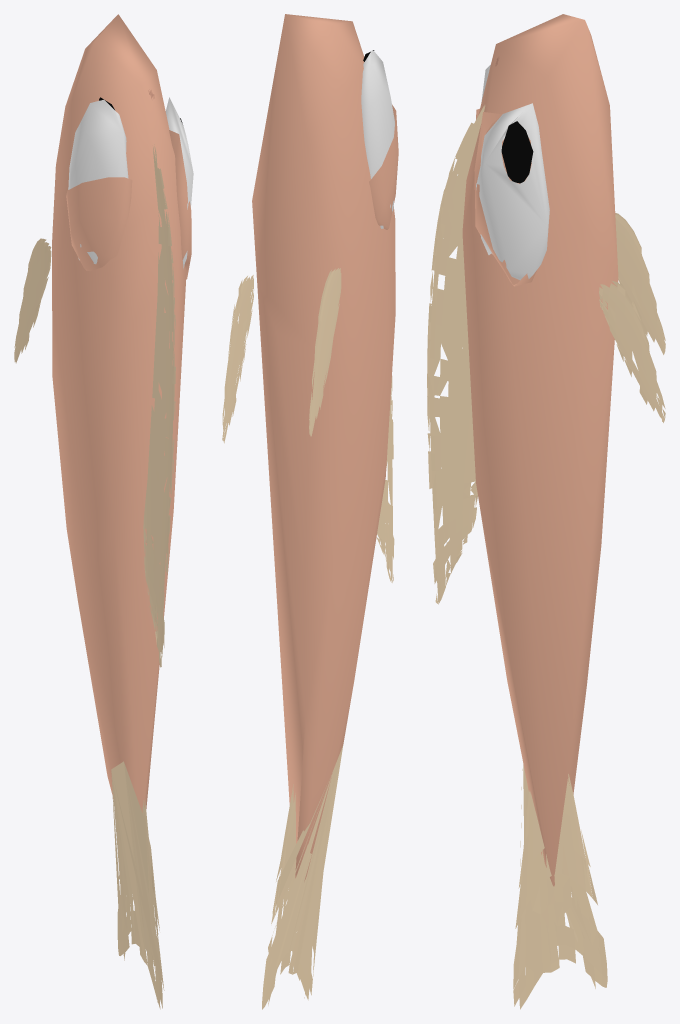
Rendered from boid-fish-lucky.glb.
3 views of the same model, side by side, from view 1: azimuth 30°, elevation 25°; view 2: azimuth 150°, elevation 25°; view 3: azimuth 270°, elevation 25° (orthographic). The views are drawn at different scales.
Visible parts, largest first — view 1: FishProxy_0.001; view 2: FishProxy_0.001; view 3: FishProxy_0.001.
Part boxes in pixels (bbox=[...]): FishProxy_0.001: bbox=[14, 14, 193, 1009]; FishProxy_0.001: bbox=[222, 14, 398, 1009]; FishProxy_0.001: bbox=[427, 14, 665, 1009].
Size of the model in its own units: 0.0587 by 0.4905 by 0.1077.
